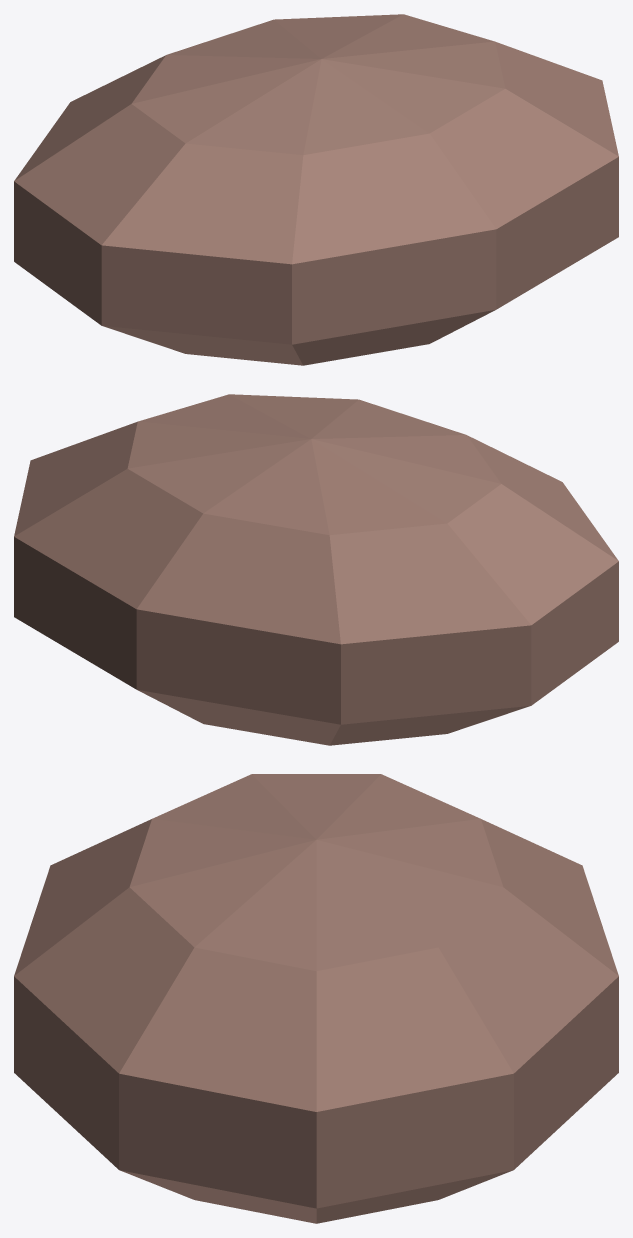
The model's file is pepita_chocolate.glb.
The picture shows the model from 3 angles, top to bottom: view 1: azimuth 30°, elevation 25°; view 2: azimuth 150°, elevation 25°; view 3: azimuth 270°, elevation 25°; orthographic projection. The views are drawn at different scales.
Parts seen in each view (by area): view 1: pepita_chocolate; view 2: pepita_chocolate; view 3: pepita_chocolate.
Part boxes in pixels (x1,y1,x2,y2): pepita_chocolate: (14,14,618,365); pepita_chocolate: (14,394,618,745); pepita_chocolate: (14,774,618,1223).
Bounding box in the file's own units: 0.3505 × 0.16 × 0.281.
